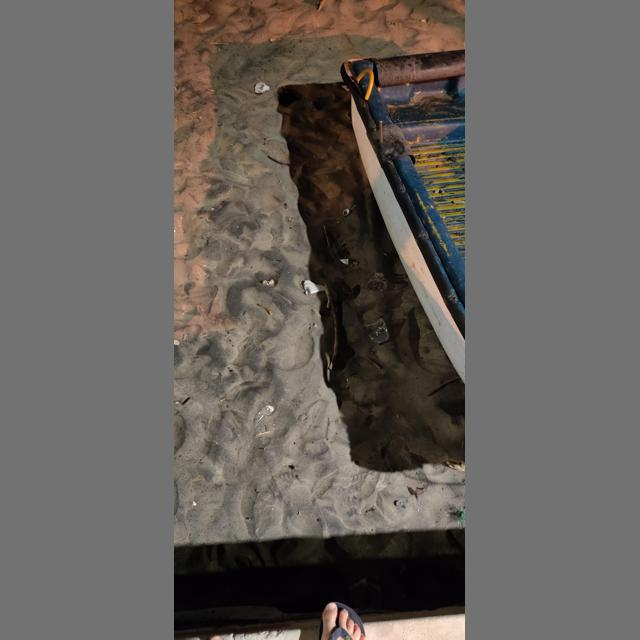litter: (366, 318, 390, 345), (367, 272, 389, 291), (304, 280, 325, 295), (457, 506, 466, 524), (340, 258, 349, 265)
